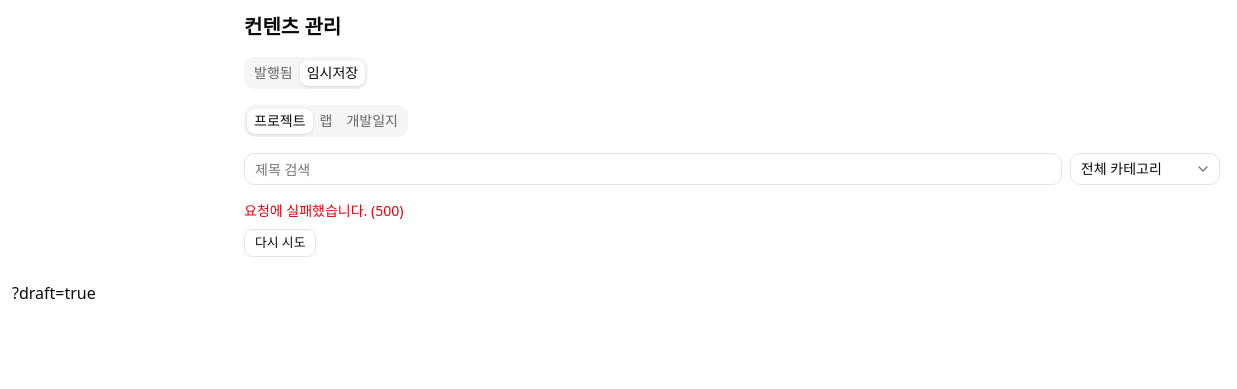
Test: PostListPage 보기 전환 › 예외 › 임시저장 조회가 실패하면 에러와 다시 시도가 보이고 같은 draft: true 조건으로 재조회해야 한다
This screenshot has width=1237, height=389.
Expected: the text "요청에 실패했습니다. (500)" is shown, [244,201,403,220]
Click the button "다시 시도" at (280, 243), box [244,229,316,257]
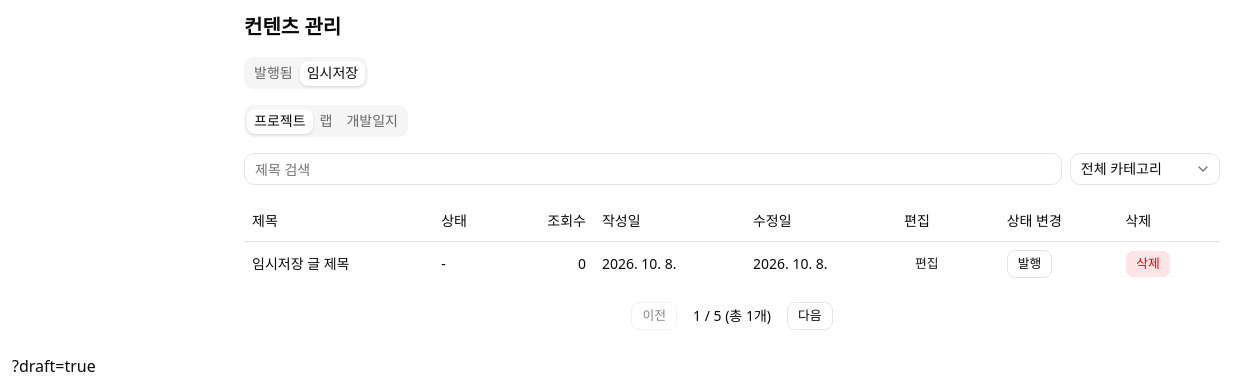
Now the text "임시저장 글 제목" is shown, box [244,241,433,286]
